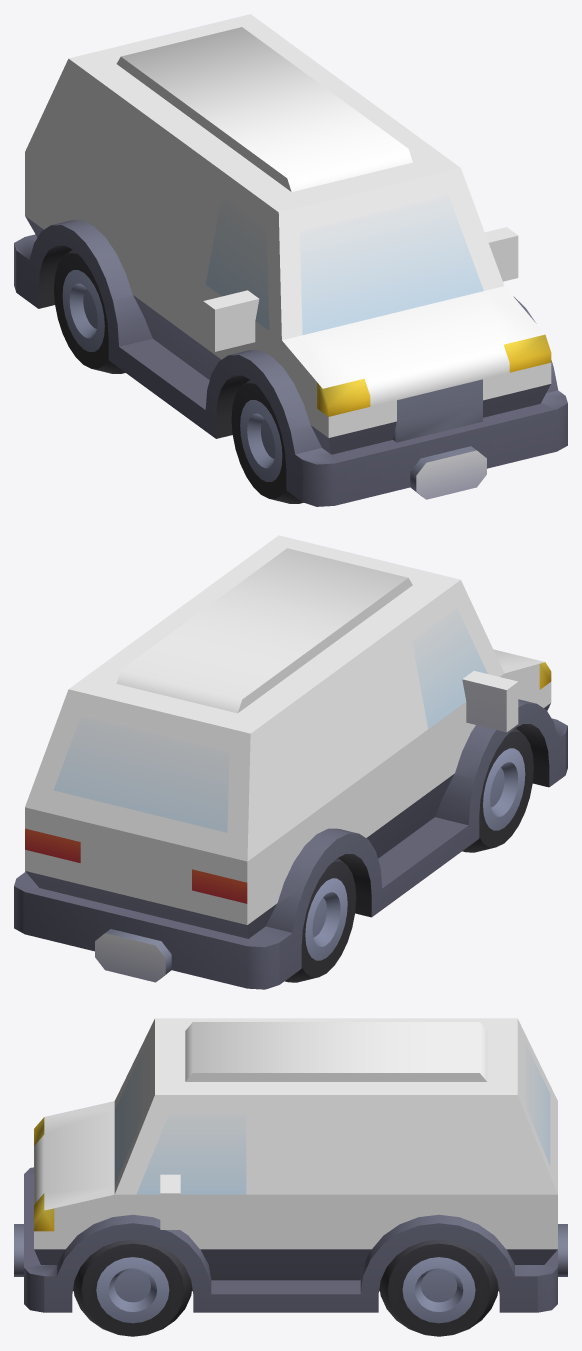
File: van.glb
3 views of the same model, one above another, from view 1: azimuth 30°, elevation 25°; view 2: azimuth 150°, elevation 25°; view 3: azimuth 270°, elevation 25° (orthographic). The views are drawn at different scales.
Visible parts, largest first — view 1: body, wheel-front-right, wheel-back-right; view 2: body, wheel-back-right, wheel-front-right; view 3: body, wheel-front-left, wheel-back-left.
Part boxes in pixels (bbox=[...]): body: bbox=[14, 14, 567, 506]; wheel-front-right: bbox=[231, 379, 303, 503]; wheel-back-right: bbox=[54, 249, 125, 373]; body: bbox=[14, 535, 567, 989]; wheel-back-right: bbox=[285, 858, 356, 982]; wheel-front-right: bbox=[462, 728, 533, 852]; body: bbox=[14, 1018, 567, 1312]; wheel-front-left: bbox=[73, 1239, 192, 1336]; wheel-back-left: bbox=[379, 1239, 498, 1336].
Size of the model in its own units: 1.5 by 1.35 by 2.75.
Materials: 2 (1 with a texture image).
